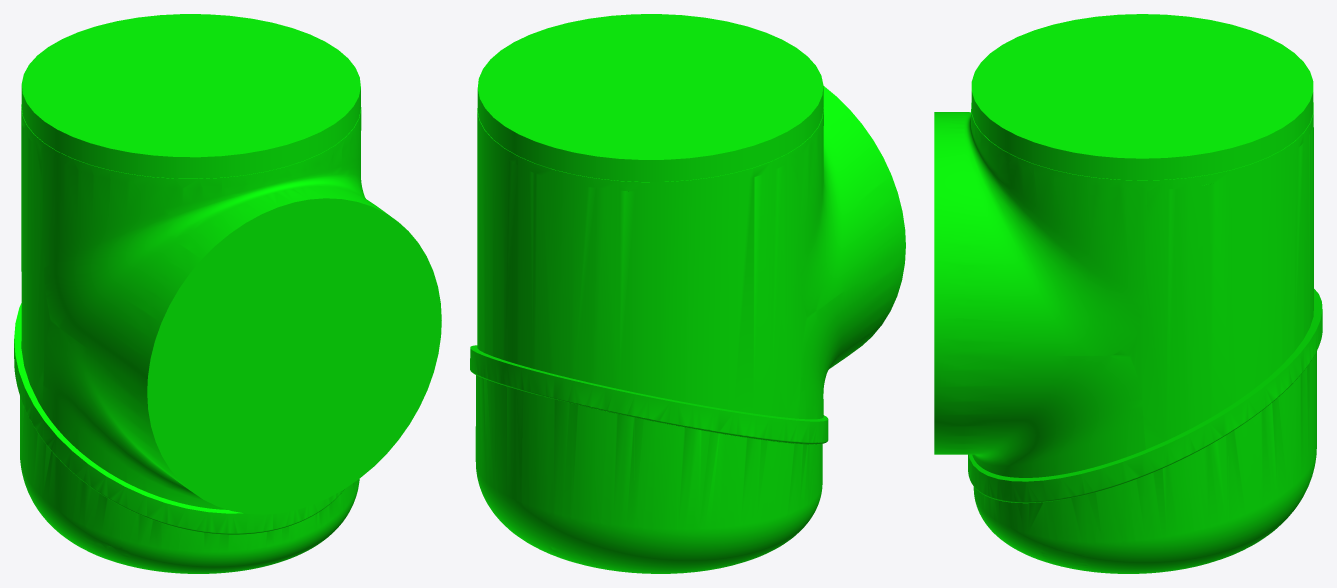
The model's file is wrist1.dae.
The picture shows the model from 3 angles, left to right: view 1: azimuth 30°, elevation 25°; view 2: azimuth 150°, elevation 25°; view 3: azimuth 270°, elevation 25°; orthographic projection.
Parts seen in each view (by area): view 1: Actor0, Actor1; view 2: Actor0, Actor1; view 3: Actor0, Actor1.
Boxes of the visible parts, x1=… form: Actor0: x1=21, y1=14, x2=441, y2=514; Actor1: x1=14, y1=303, x2=359, y2=573; Actor0: x1=477, y1=14, x2=905, y2=419; Actor1: x1=470, y1=345, x2=828, y2=573; Actor0: x1=934, y1=14, x2=1313, y2=477; Actor1: x1=968, y1=289, x2=1322, y2=573.
Size of the model in its own units: 0.0775 by 0.0849 by 0.1047.
